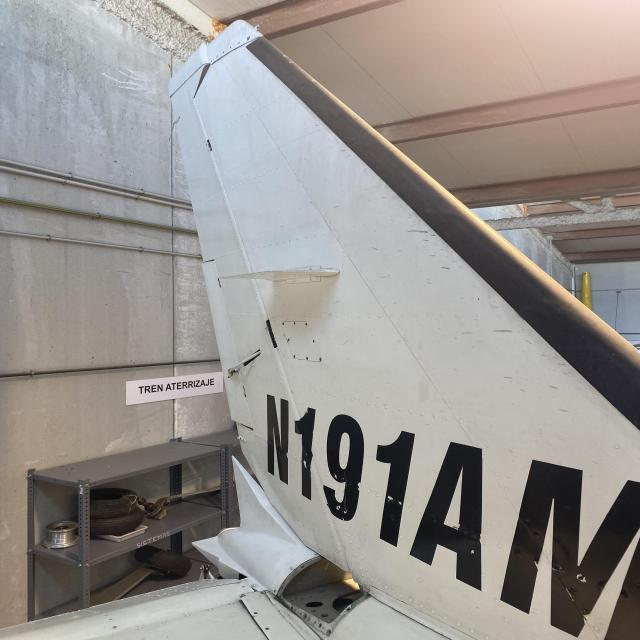Fastener Damage: (264, 626, 270, 630), (254, 612, 258, 614)
